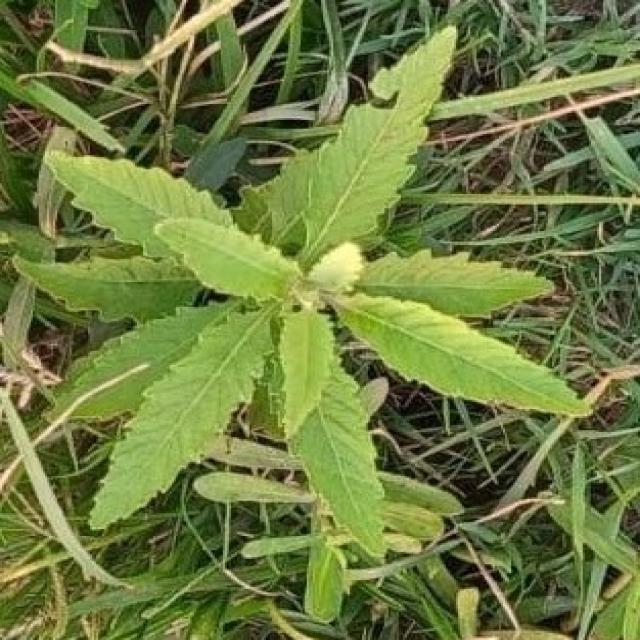weed: (16, 26, 591, 558)
